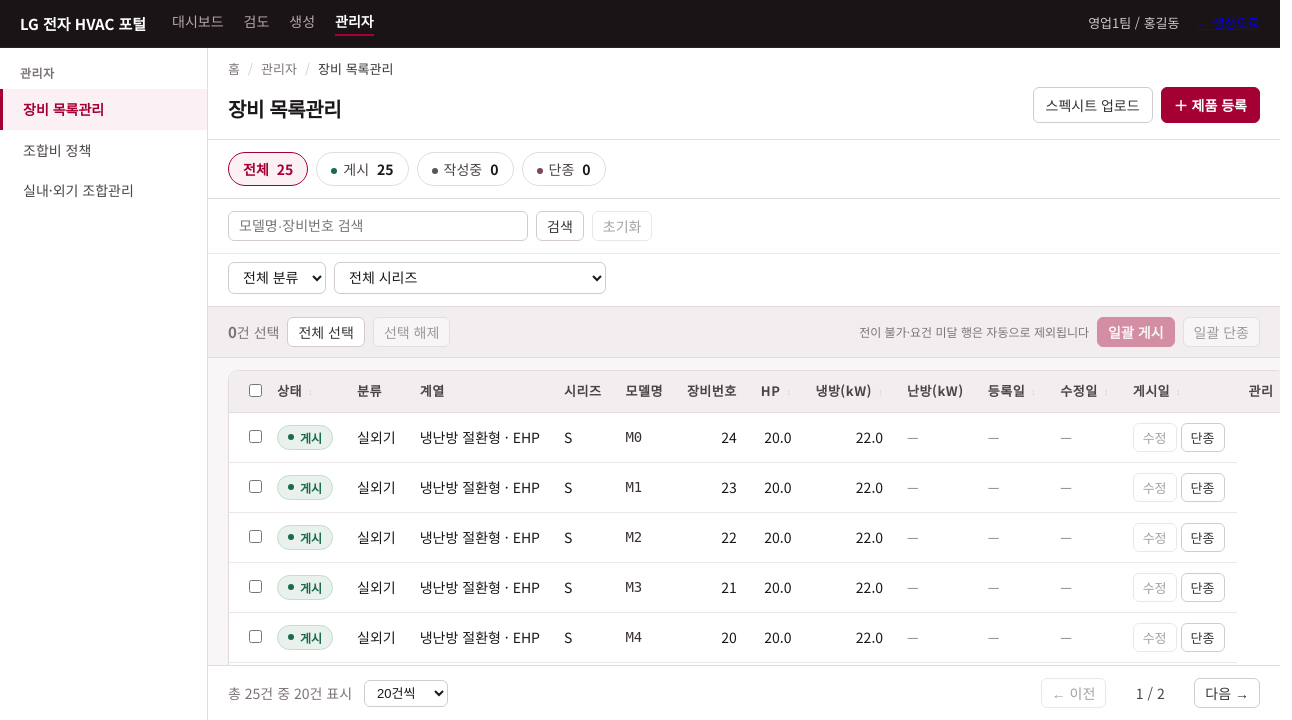
Test: EquipmentAdminPage (관리 목록) › 컬럼 정렬 › 정렬은 필터 결과 전체를 기준으로 하고, 첫 페이지로 되돌린다
The image size is (1292, 720).
Click the button "다음 →" at (1227, 693), box [1194, 678, 1260, 708]
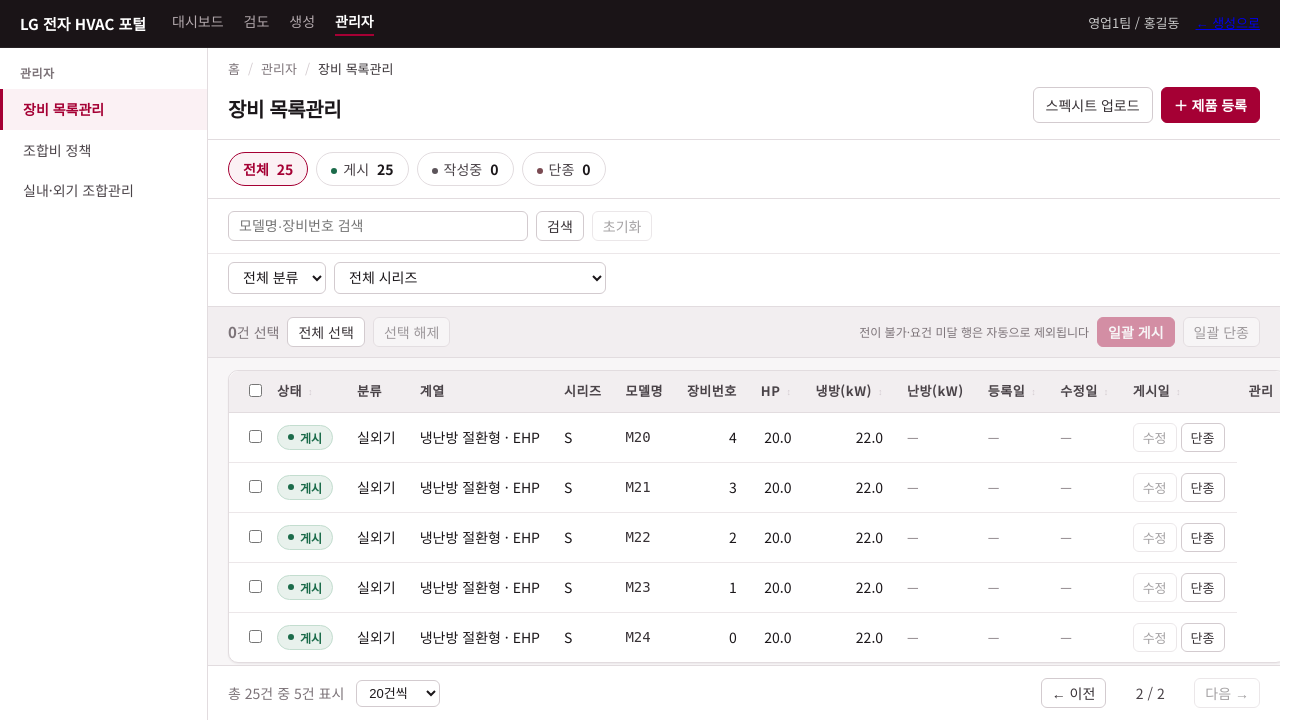
Result: the text "2 / 2" is shown at [1136, 683, 1165, 703]
Click the button with aria-label "HP 오름차순 정렬" at (776, 391), box [749, 372, 803, 411]
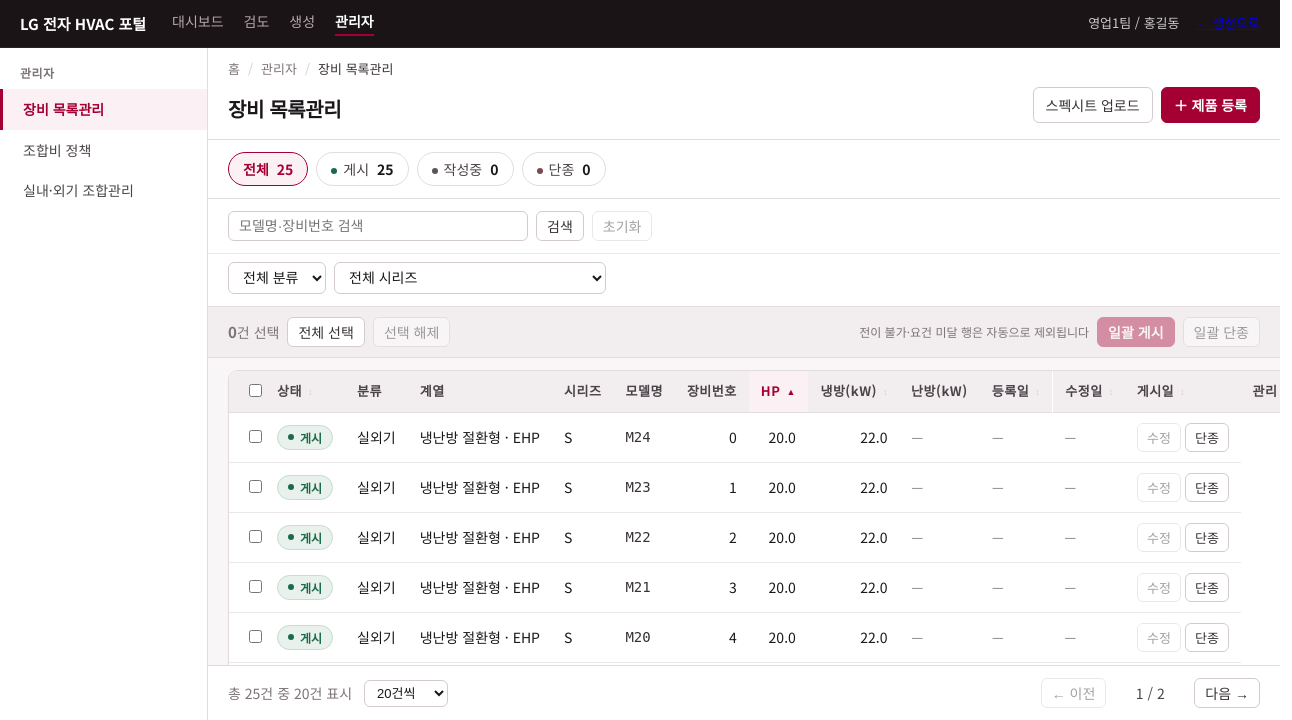
Result: the cell "M24" is shown at [613, 413, 675, 463]
Result: the text "1 / 2" is shown at [1136, 683, 1165, 703]
